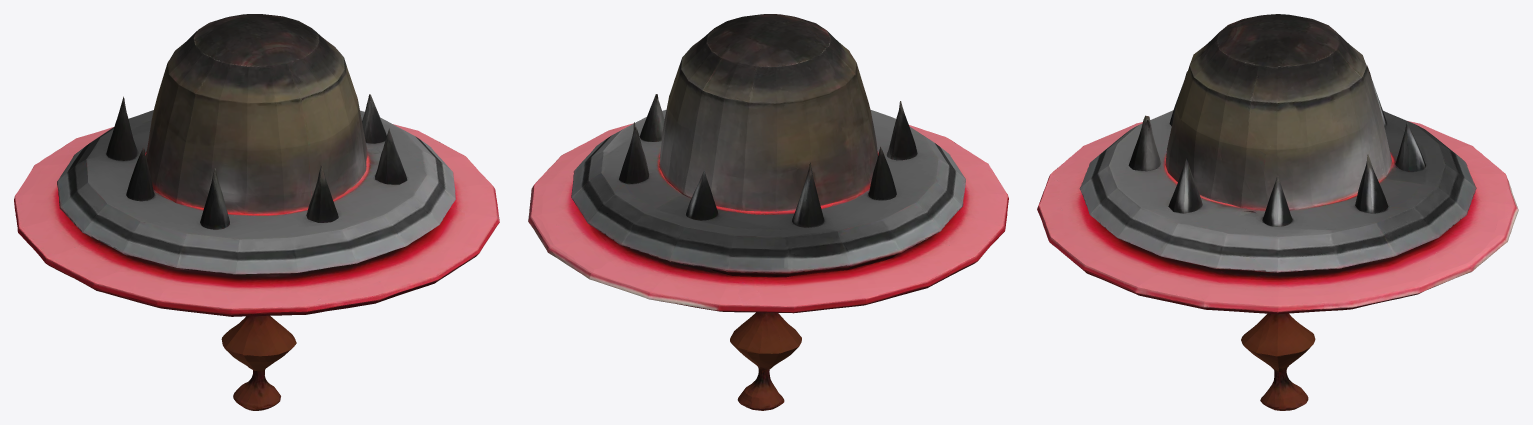
The model's file is 3deditformer_t03.glb.
The picture shows the model from 3 angles, left to right: view 1: azimuth 30°, elevation 25°; view 2: azimuth 150°, elevation 25°; view 3: azimuth 270°, elevation 25°; orthographic projection.
Parts seen in each view (by area): view 1: geometry_0; view 2: geometry_0; view 3: geometry_0.
Boxes of the visible parts, <box> form: geometry_0: <box>14,14,499,410</box>; geometry_0: <box>528,14,1008,410</box>; geometry_0: <box>1037,14,1518,410</box>.
Bounding box in the file's own units: 2 × 1.73 × 2.
1 material, 1 textured.
